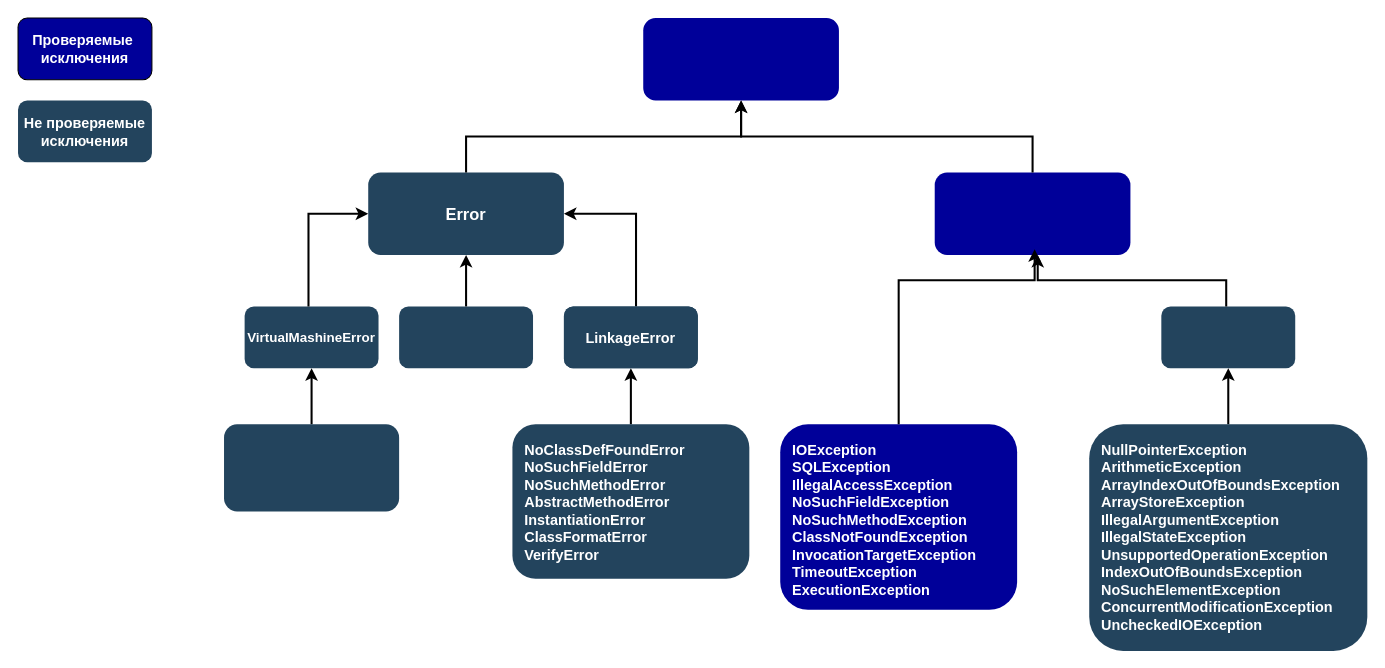
The diagram is 1385 pixels wide and 668 high, and some of its shapes have lost their labels. The shapes that lost their labels are listed below. From the top down, each one's centre as x and y in pixels, then its label:
the point at 740,59: Throwable
the point at 1032,213: Exception
the point at 466,337: AssertionError ThreadDeath
the point at 1228,337: RuntimeException
the point at 311,467: StackOverflowError OutOfMemoryError InternalError
